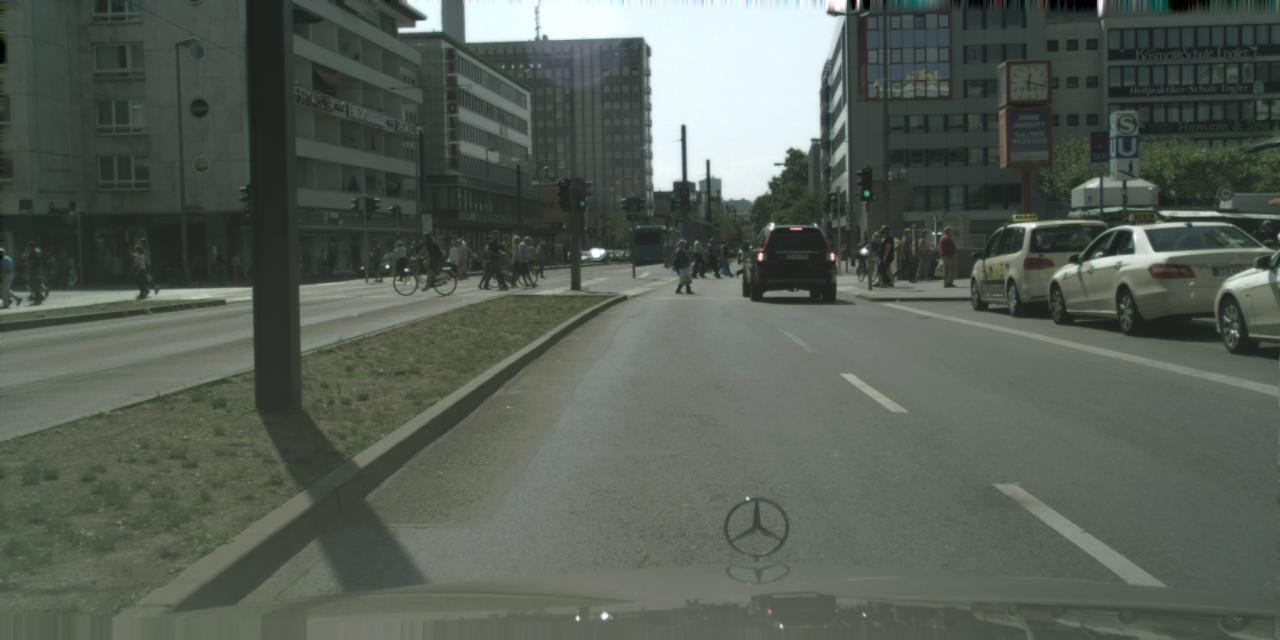ped: (22, 241, 78, 307), (1249, 219, 1279, 297), (936, 225, 962, 287), (447, 238, 485, 280), (483, 229, 508, 289), (416, 231, 440, 290), (873, 224, 895, 288), (134, 237, 158, 295), (503, 234, 525, 288), (894, 228, 916, 282), (4, 248, 23, 310), (672, 240, 694, 292), (480, 235, 501, 287), (130, 245, 150, 298), (913, 230, 934, 280), (497, 234, 517, 285), (516, 236, 536, 286), (690, 235, 708, 277), (368, 239, 385, 282), (530, 240, 547, 280), (214, 248, 230, 286), (244, 245, 260, 282), (703, 238, 718, 276), (716, 240, 731, 276), (192, 249, 206, 287), (394, 242, 408, 280), (737, 242, 751, 279), (229, 251, 242, 283), (413, 240, 426, 272), (408, 240, 420, 274), (546, 241, 556, 266), (660, 242, 670, 266), (562, 243, 570, 264), (860, 236, 867, 258)
